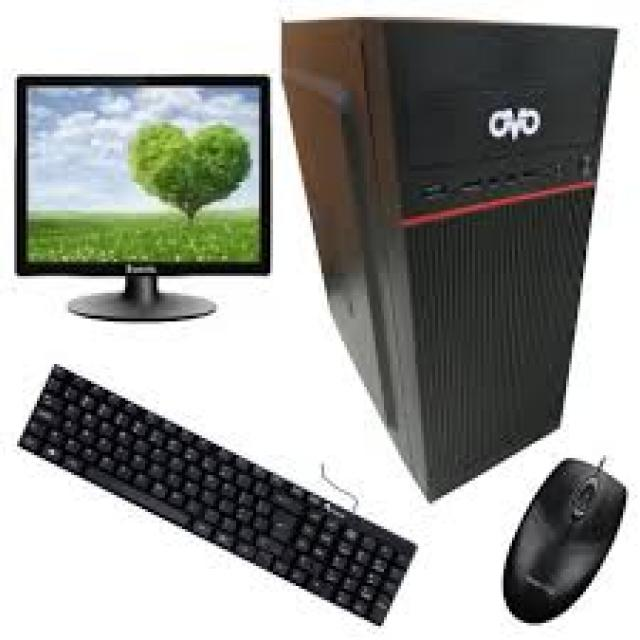Computer: (290, 16, 630, 485)
Monitor: (11, 70, 273, 288)
